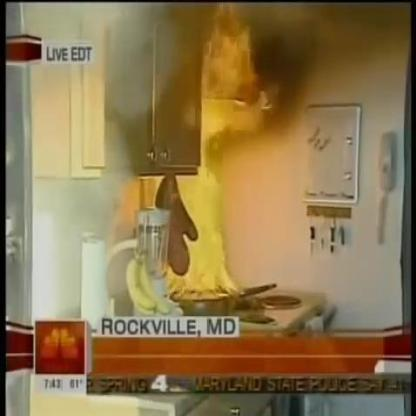fire: (156, 0, 268, 302)
